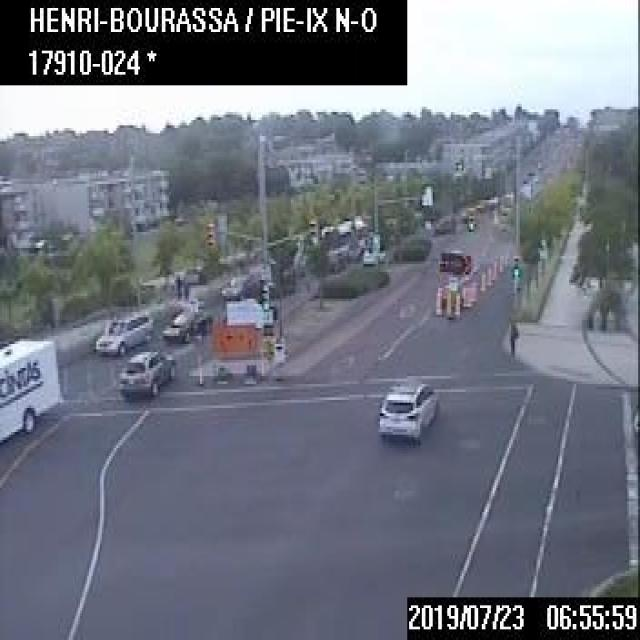construction: (203, 296, 274, 384), (435, 248, 469, 315), (452, 288, 460, 316), (434, 285, 441, 314), (444, 288, 451, 317), (462, 282, 469, 306), (484, 264, 491, 284), (470, 278, 476, 300), (478, 270, 484, 290), (491, 257, 496, 278), (497, 252, 502, 271), (503, 249, 507, 265)
pedestrian: (507, 314, 518, 361), (174, 272, 182, 299), (182, 275, 188, 299)
vehicle: (0, 336, 62, 445), (374, 376, 436, 443), (118, 350, 175, 398), (94, 308, 152, 352), (160, 307, 211, 341), (216, 269, 249, 299), (362, 248, 386, 265), (462, 213, 474, 230)
